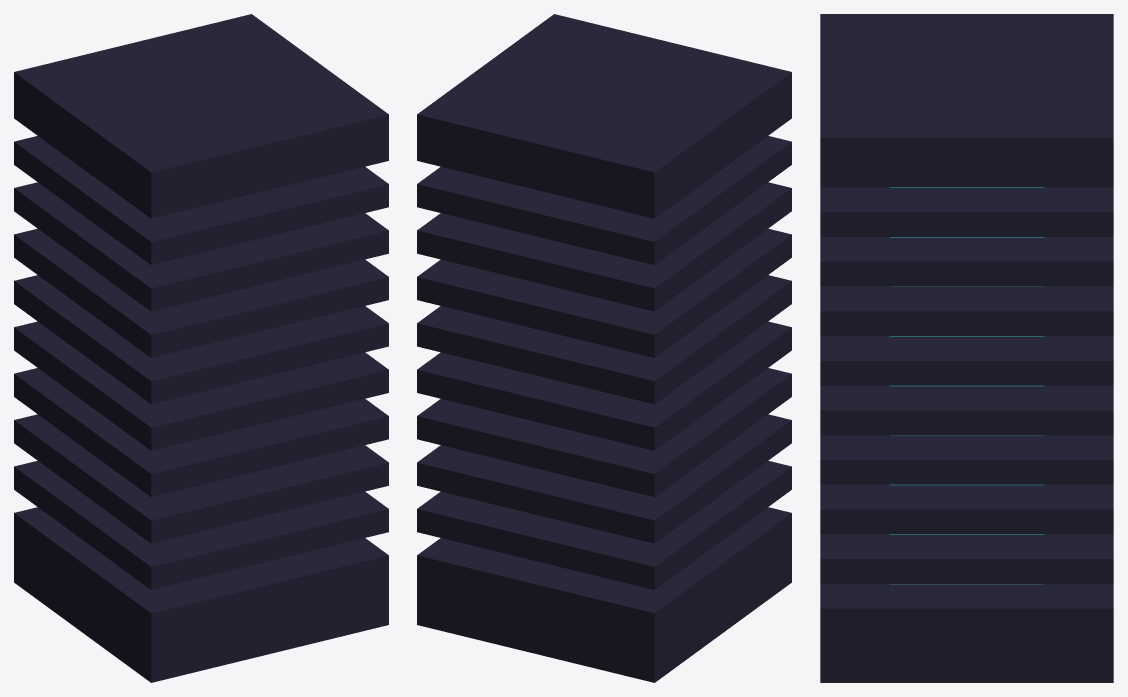
File: Server.fbx
3 renders of one model, left to right at view 1: azimuth 30°, elevation 25°; view 2: azimuth 150°, elevation 25°; view 3: azimuth 270°, elevation 25°, orthographic. The views are drawn at different scales.
Parts seen in each view (by area): view 1: Server; view 2: Server; view 3: Server.
Boxes of the visible parts, x1,y1,x2,y2 form: Server: (14,14,388,682); Server: (417,14,791,682); Server: (820,14,1113,682).
Size of the model in its own units: 0.666 by 1.37 by 0.666.
